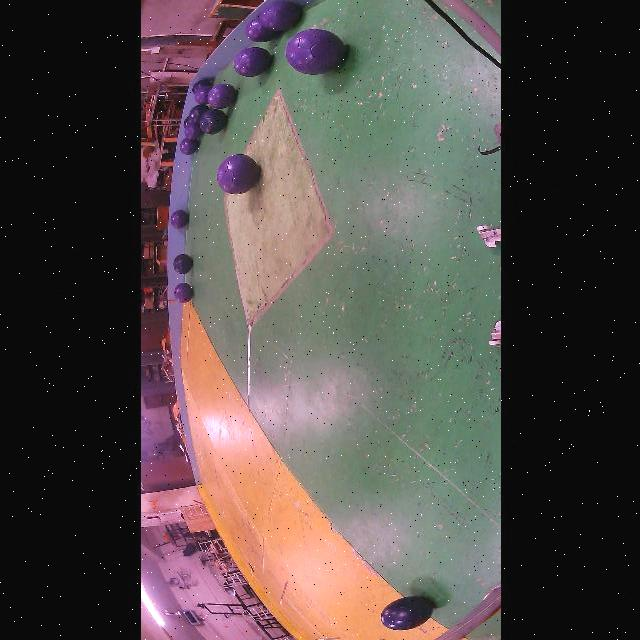B: (380, 596, 432, 630), (199, 109, 226, 135), (172, 254, 191, 274), (189, 105, 209, 124), (191, 79, 211, 94)
P: (285, 29, 345, 75), (216, 154, 260, 195), (259, 2, 301, 31), (232, 48, 271, 78), (245, 18, 279, 42), (206, 84, 236, 109), (169, 210, 188, 229), (174, 282, 192, 302), (194, 85, 211, 105), (179, 138, 199, 155), (184, 122, 202, 140)
